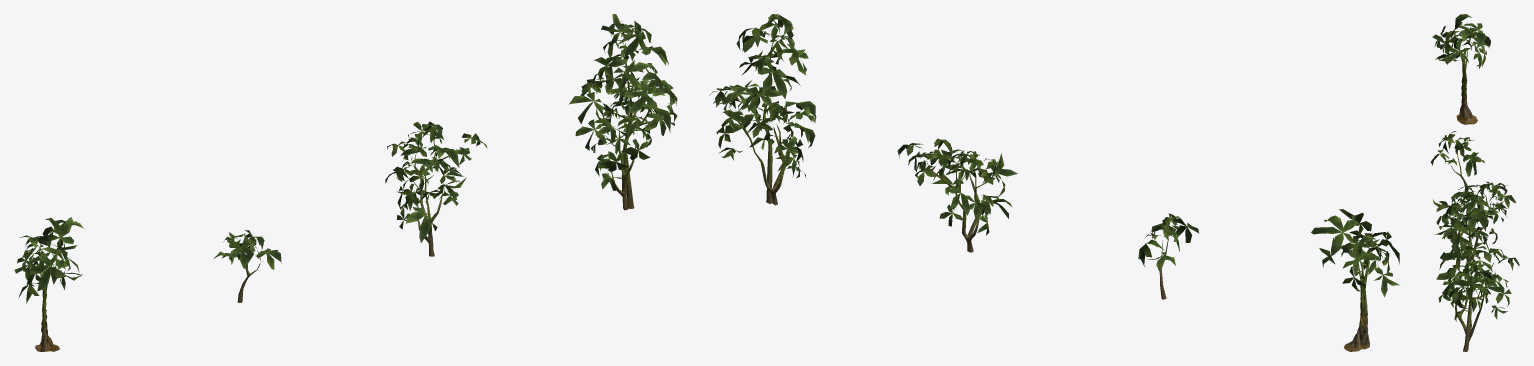
The model's file is pachira_aquatica_01.glb.
3 renders of one model, left to right at view 1: azimuth 30°, elevation 25°; view 2: azimuth 150°, elevation 25°; view 3: azimuth 270°, elevation 25°, orthographic. The views are drawn at different scales.
Parts seen in each view (by area): view 1: pachira_aquatica_01_leaves_a, pachira_aquatica_01_bark_a; view 2: pachira_aquatica_01_leaves_a, pachira_aquatica_01_bark_a; view 3: pachira_aquatica_01_leaves_a, pachira_aquatica_01_bark_a.
Part boxes in pixels (left/top/right/bottom): pachira_aquatica_01_leaves_a: left=14, top=14, right=677, bottom=303; pachira_aquatica_01_bark_a: left=35, top=43, right=652, bottom=351; pachira_aquatica_01_leaves_a: left=709, top=14, right=1399, bottom=297; pachira_aquatica_01_bark_a: left=728, top=42, right=1369, bottom=351; pachira_aquatica_01_leaves_a: left=1431, top=14, right=1519, bottom=321; pachira_aquatica_01_bark_a: left=1450, top=48, right=1496, bottom=351.
Size of the model in its own units: 6.86 by 1.9 by 0.9971.
2 materials, 2 textured.
